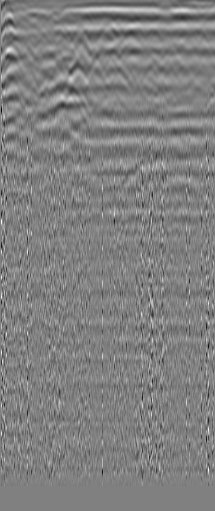오수: (35, 27, 55, 47)
우수: (187, 26, 207, 46)
